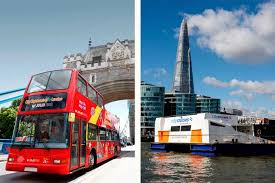bus: (6, 67, 121, 176)
